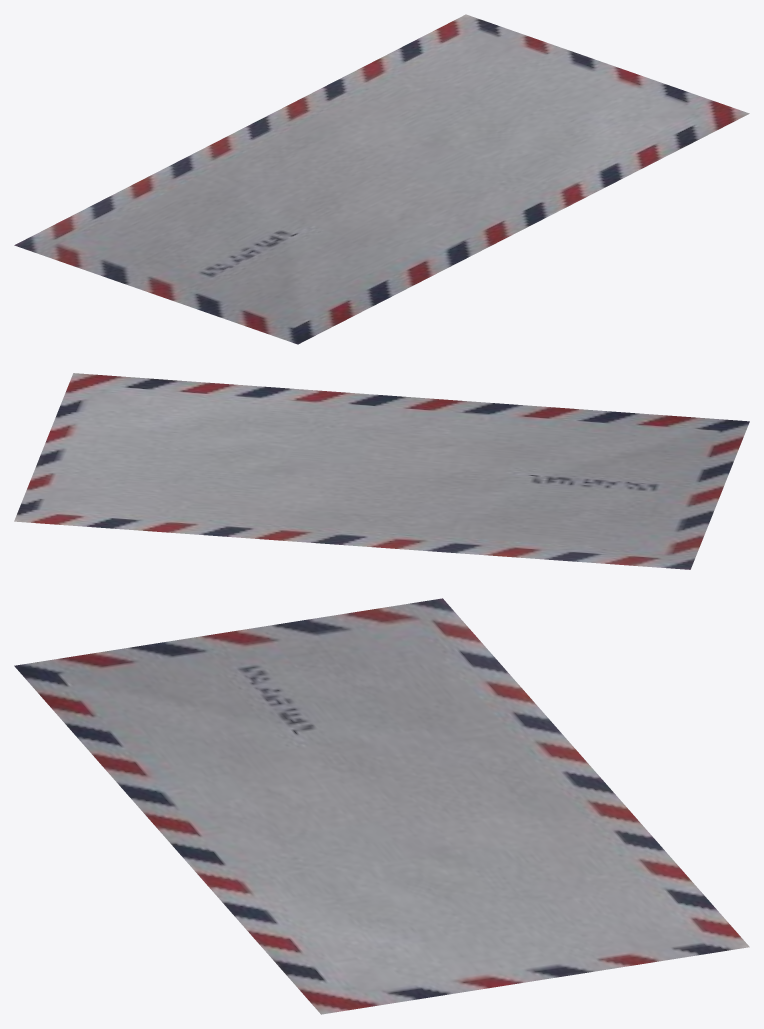
File: via_air_mail.glb
3 views of the same model, one above another, from view 1: azimuth 30°, elevation 25°; view 2: azimuth 150°, elevation 25°; view 3: azimuth 270°, elevation 25° (orthographic). The views are drawn at different scales.
Parts seen in each view (by area): view 1: via_air_mail; view 2: via_air_mail; view 3: via_air_mail.
Part boxes in pixels (x1,y1,x2,y2): via_air_mail: (14,14,749,344); via_air_mail: (14,373,749,569); via_air_mail: (14,598,749,1014).
Size of the model in its own units: 3.09 by 0 by 2.31.
1 material, 1 textured.
